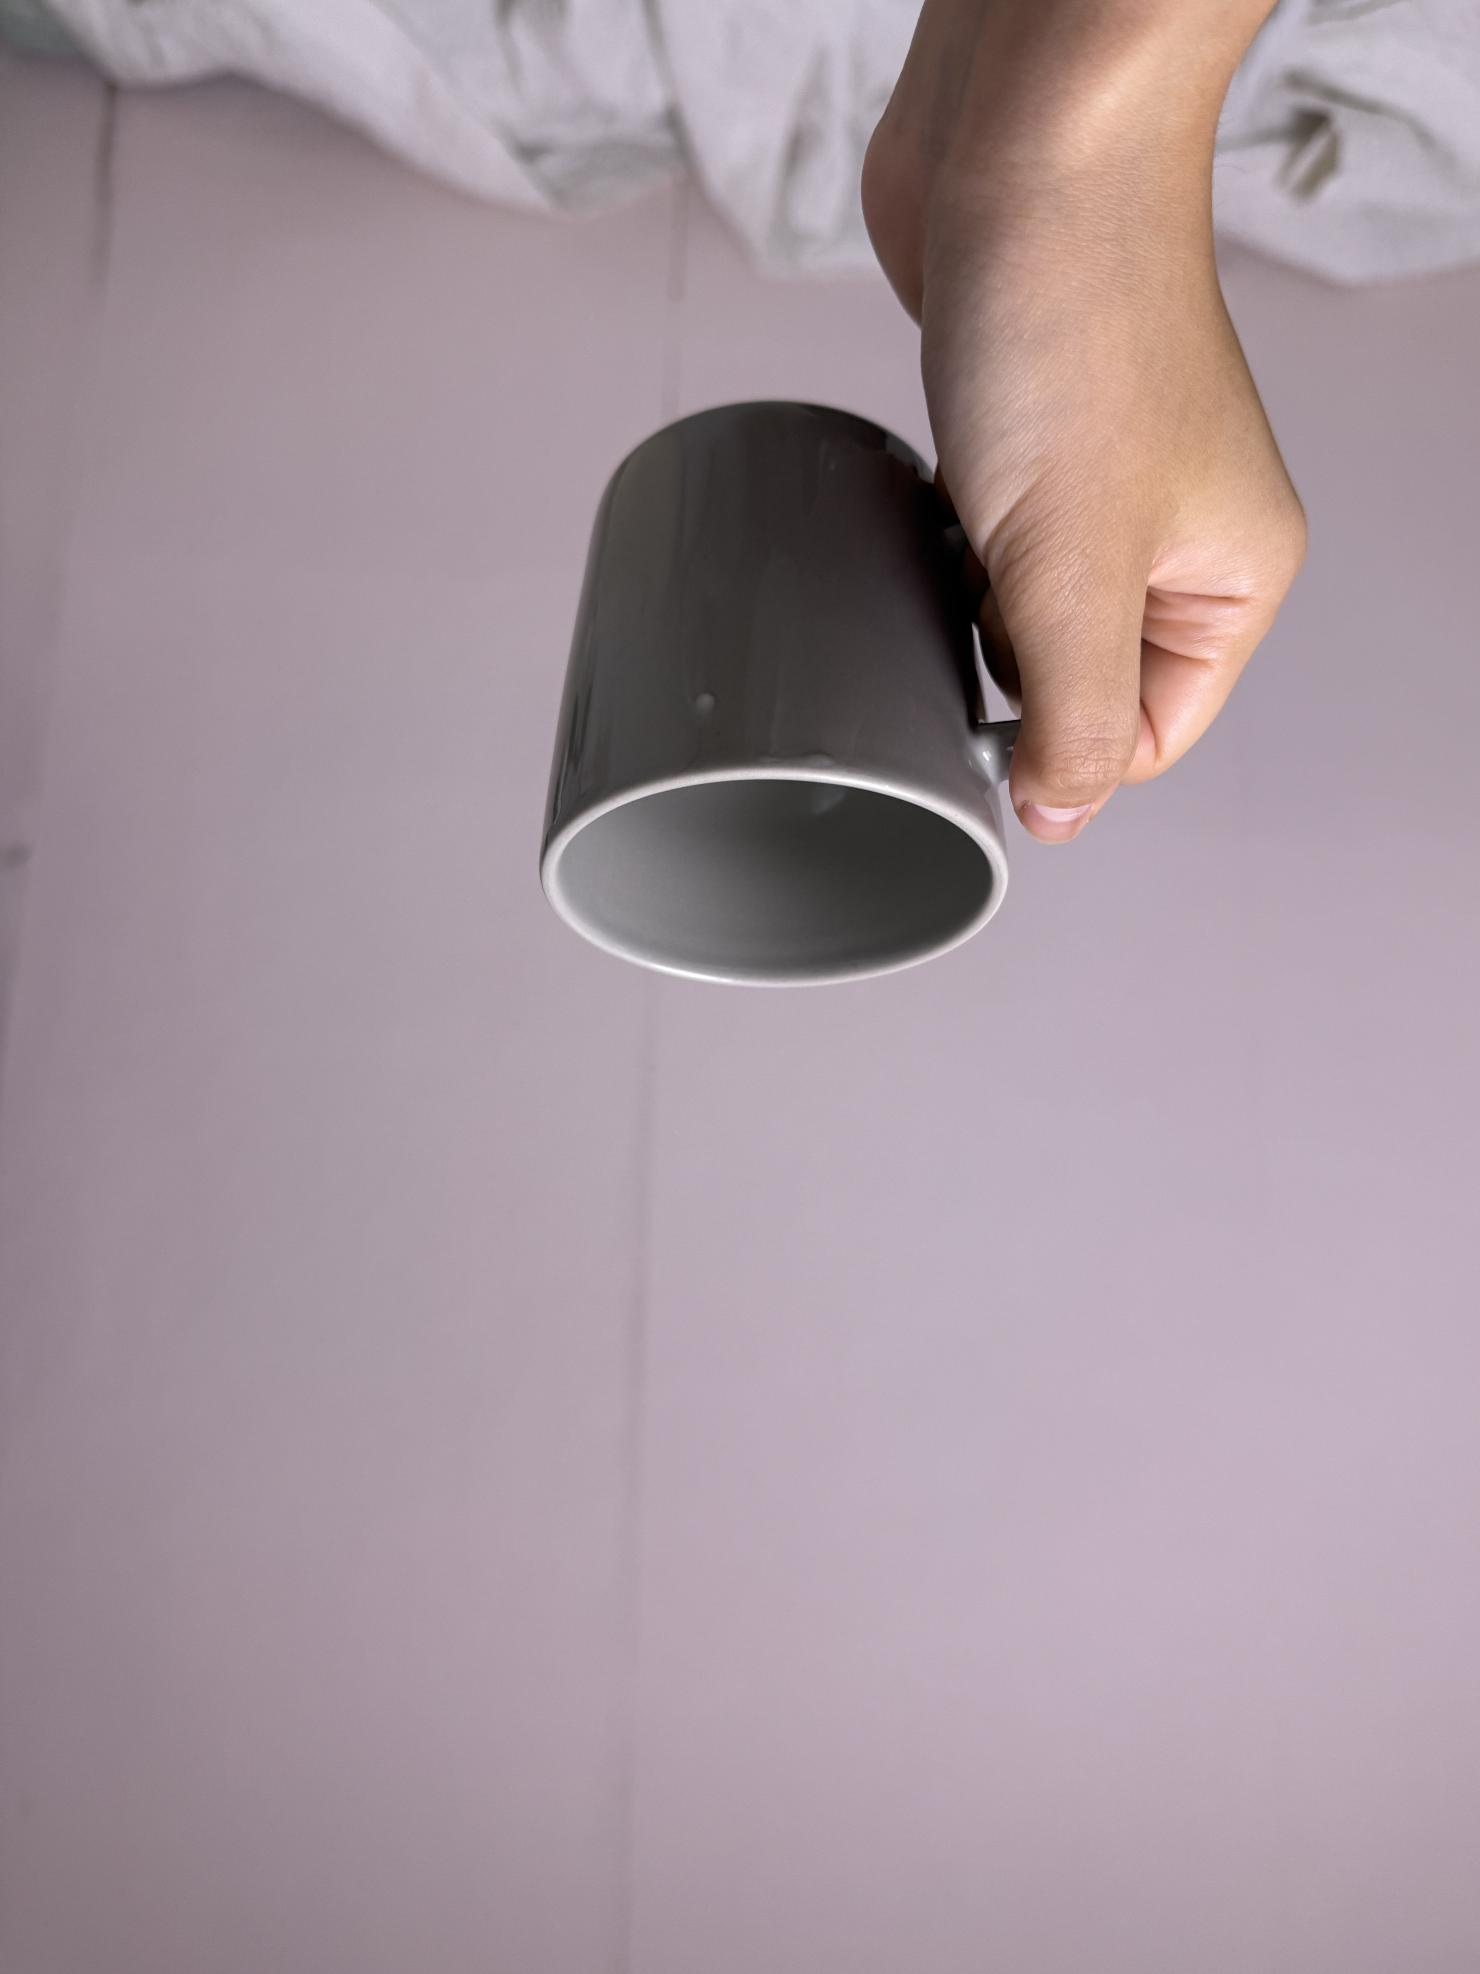cup: (501, 47, 1320, 996)
